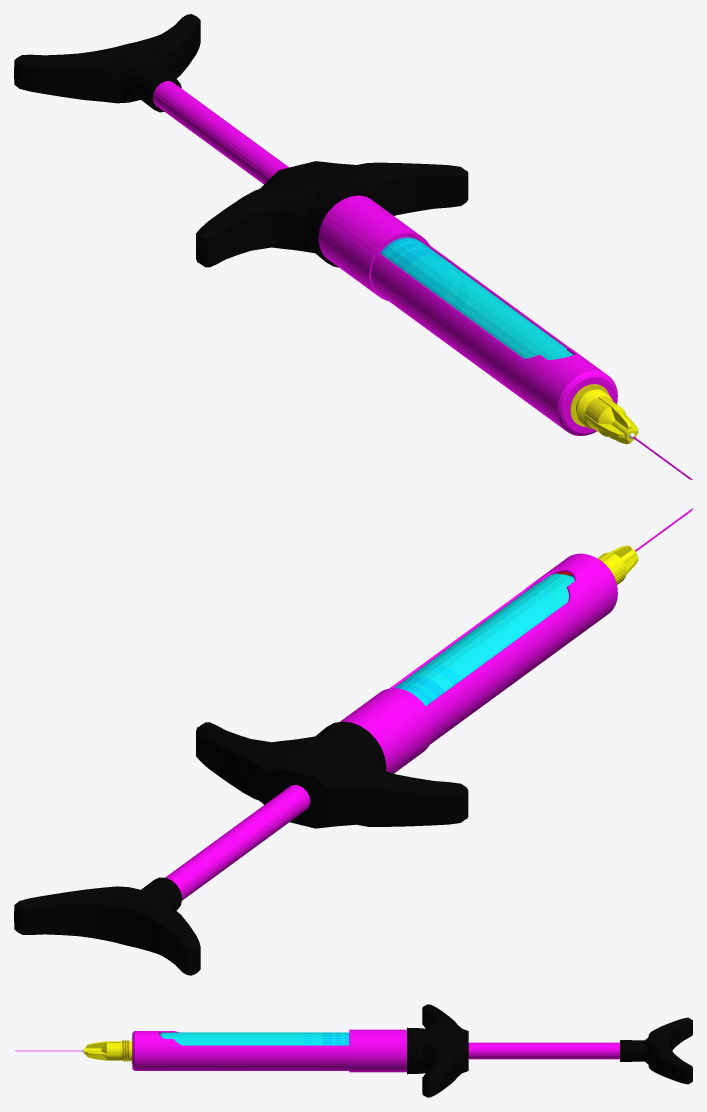
Rendered from Dental Syringe.fbx.
3 views of the same model, one above another, from view 1: azimuth 30°, elevation 25°; view 2: azimuth 150°, elevation 25°; view 3: azimuth 270°, elevation 25° (orthographic). The views are drawn at different scales.
Visible parts, largest first — view 1: FINGER_GRIP, BARREL, THUMB_RING_HALF, GLASS, LIQUID, BARREL_ATTACHMENT, PLUNGER, SERYNGE_LUER_CAP; view 2: FINGER_GRIP, THUMB_RING_HALF, BARREL, GLASS, LIQUID, PLUNGER, BARREL_ATTACHMENT, SERYNGE_LUER_CAP; view 3: BARREL, FINGER_GRIP, THUMB_RING_HALF, PLUNGER, BARREL_ATTACHMENT, LIQUID, GLASS, SERYNGE_LUER_CAP, RUBBER_STOPPER.
Part boxes in pixels (<box>): FINGER_GRIP: <box>196,161,468,267</box>; BARREL: <box>371,234,617,435</box>; THUMB_RING_HALF: <box>14,14,200,112</box>; GLASS: <box>380,237,572,359</box>; LIQUID: <box>382,238,572,359</box>; BARREL_ATTACHMENT: <box>318,195,429,300</box>; PLUNGER: <box>152,81,288,184</box>; SERYNGE_LUER_CAP: <box>570,384,638,444</box>; FINGER_GRIP: <box>196,721,468,828</box>; THUMB_RING_HALF: <box>14,877,200,975</box>; BARREL: <box>390,553,617,744</box>; GLASS: <box>394,573,574,705</box>; LIQUID: <box>395,574,574,705</box>; PLUNGER: <box>165,785,310,900</box>; BARREL_ATTACHMENT: <box>340,688,433,773</box>; SERYNGE_LUER_CAP: <box>597,545,638,584</box>; BARREL: <box>132,1031,349,1070</box>; FINGER_GRIP: <box>407,1004,468,1097</box>; THUMB_RING_HALF: <box>620,1017,692,1084</box>; PLUNGER: <box>468,1042,619,1059</box>; BARREL_ATTACHMENT: <box>349,1029,406,1072</box>; LIQUID: <box>160,1032,348,1045</box>; GLASS: <box>160,1032,348,1045</box>; SERYNGE_LUER_CAP: <box>84,1038,132,1063</box>; RUBBER_STOPPER: <box>323,1033,349,1044</box>.
Size of the model in its own units: 4.43 by 1.15 by 16.77.
